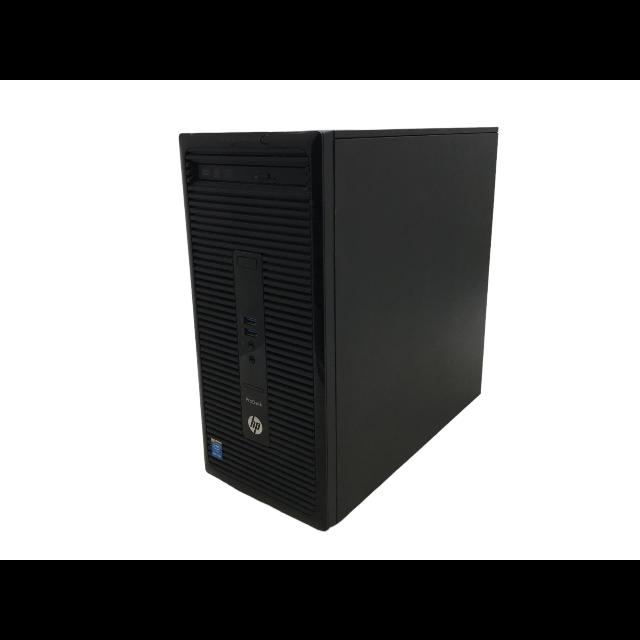Desktop-PC: (176, 123, 500, 521)
